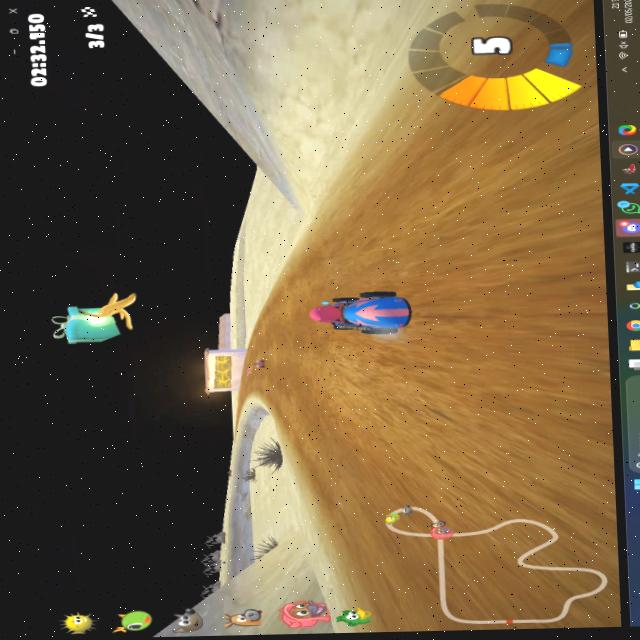enemy_kart: (247, 357, 267, 371)
player_kart: (306, 284, 424, 342)
track: (413, 57, 608, 341), (303, 337, 610, 492), (381, 487, 610, 629), (318, 181, 423, 285), (342, 132, 416, 183), (266, 296, 299, 409), (337, 491, 382, 550), (272, 270, 319, 296), (276, 410, 301, 441), (292, 241, 321, 266), (245, 325, 267, 356), (247, 372, 270, 397), (319, 491, 337, 515), (232, 392, 244, 419), (234, 369, 246, 391)
